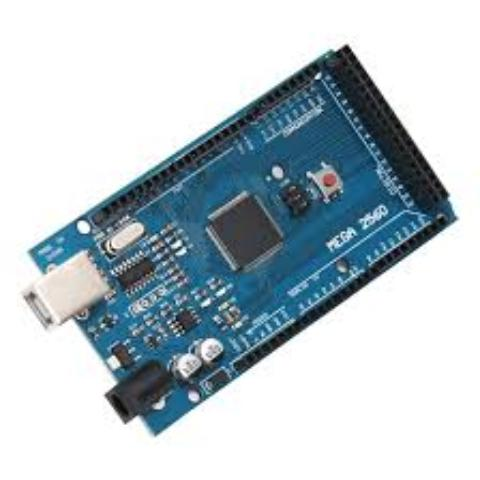Arduino-Mega: (20, 38, 466, 444)
